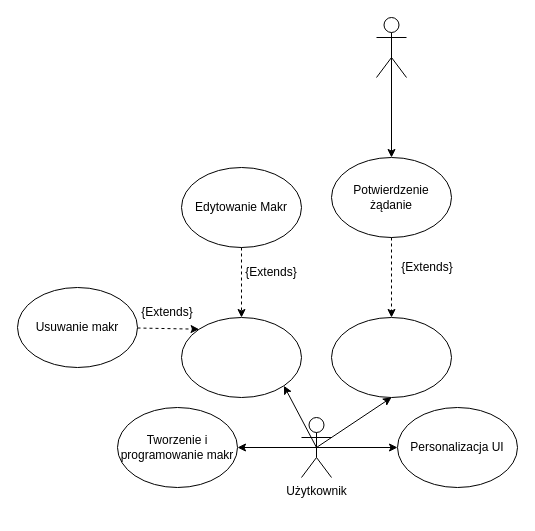
Some shapes in this 535 by 531 pixel diagram are drawn without their labels. Here are the shapes that lost their labels. From the top down, the centre of each, then its label:
At (x=391, y=47): "Serwer".
At (x=241, y=357): "Zobacz listę makr".
At (x=391, y=357): "Wysłanie żądania do odpalenia makra".
